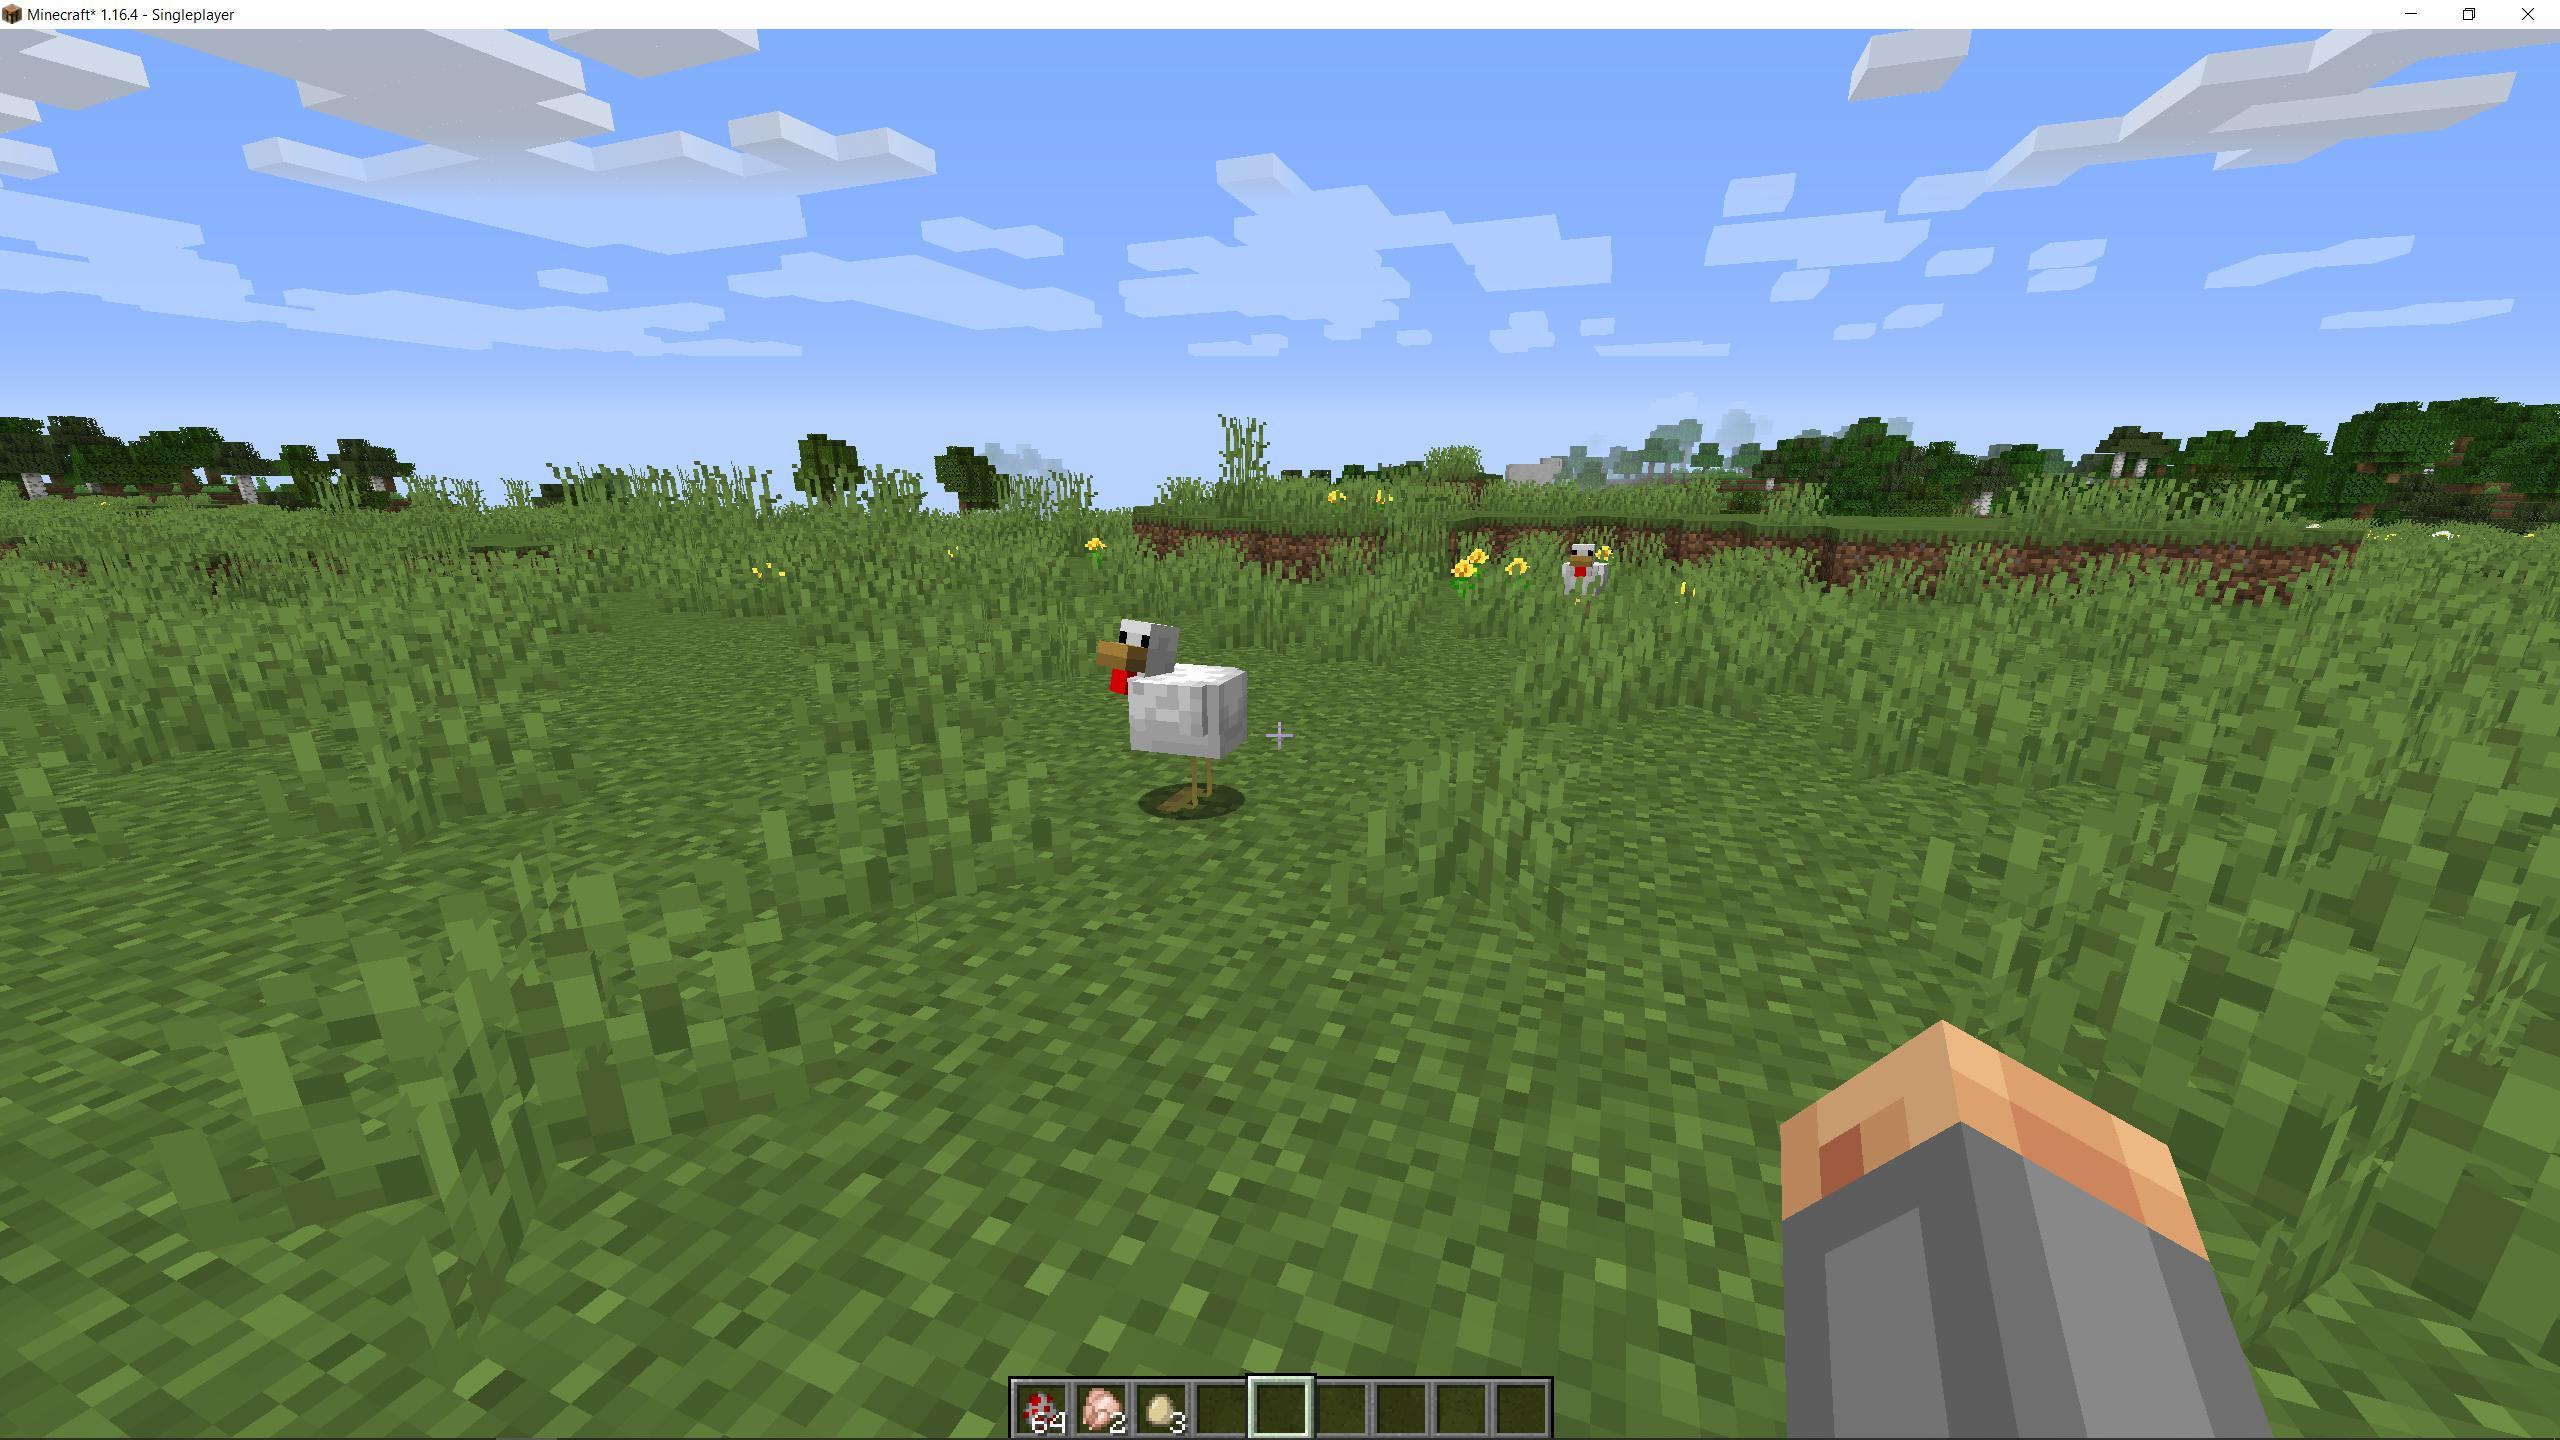chicken: (1074, 605, 1278, 835), (1545, 533, 1616, 628)
